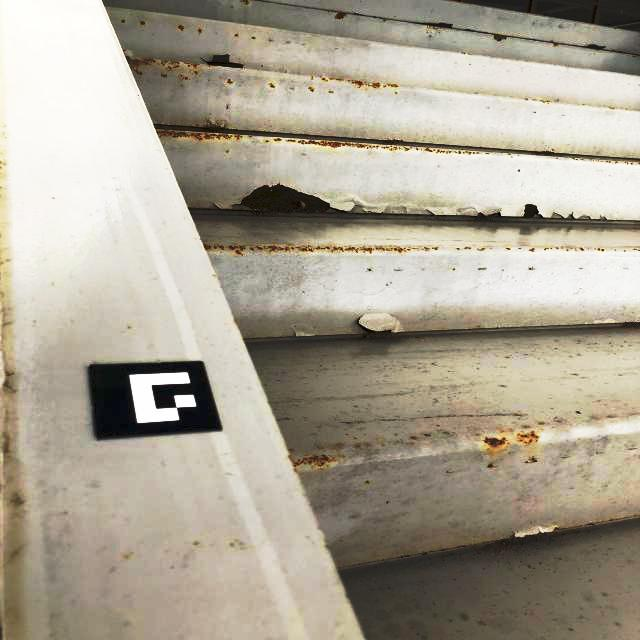Corrosion: (232, 184, 349, 213), (474, 528, 582, 556), (250, 245, 439, 255), (286, 139, 420, 152), (467, 204, 544, 223), (352, 315, 397, 342), (156, 128, 245, 141), (125, 55, 180, 75), (329, 78, 399, 89), (289, 455, 334, 472), (233, 210, 305, 219), (188, 202, 252, 212), (463, 28, 508, 42), (201, 58, 244, 69), (198, 123, 234, 134), (424, 148, 480, 155), (517, 431, 540, 445), (570, 44, 610, 52), (413, 22, 455, 29), (482, 437, 506, 449), (228, 245, 245, 257), (622, 319, 640, 329), (203, 243, 225, 251), (587, 159, 619, 164), (532, 99, 550, 105), (382, 139, 403, 144), (177, 72, 191, 79), (184, 63, 201, 68), (334, 13, 347, 19), (596, 247, 608, 253), (534, 152, 557, 155), (544, 248, 561, 252), (240, 0, 250, 6), (225, 78, 234, 84), (177, 24, 184, 30), (320, 78, 329, 82), (479, 266, 488, 270), (529, 247, 536, 252), (269, 82, 276, 87), (308, 86, 315, 91), (160, 72, 167, 77), (274, 138, 282, 142), (464, 245, 472, 249), (478, 246, 486, 250), (578, 246, 586, 250), (489, 464, 496, 468), (529, 266, 536, 270), (226, 102, 230, 109), (506, 246, 512, 250), (120, 18, 126, 22), (572, 158, 579, 161), (329, 88, 334, 92), (234, 32, 239, 36), (139, 20, 144, 24), (634, 248, 640, 251), (456, 248, 462, 251), (198, 26, 201, 32), (194, 71, 197, 75), (368, 268, 372, 271)
